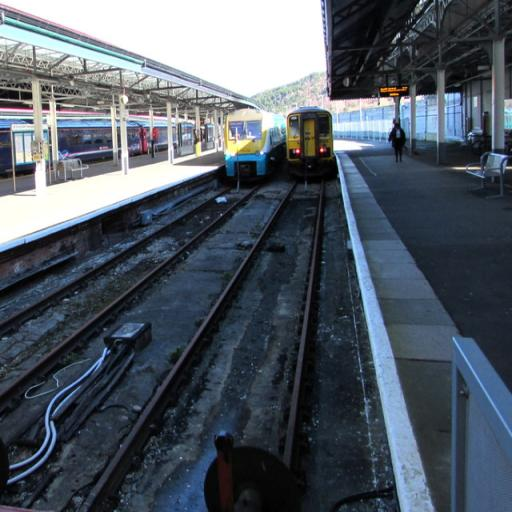platform_edge: (326, 167, 482, 512)
